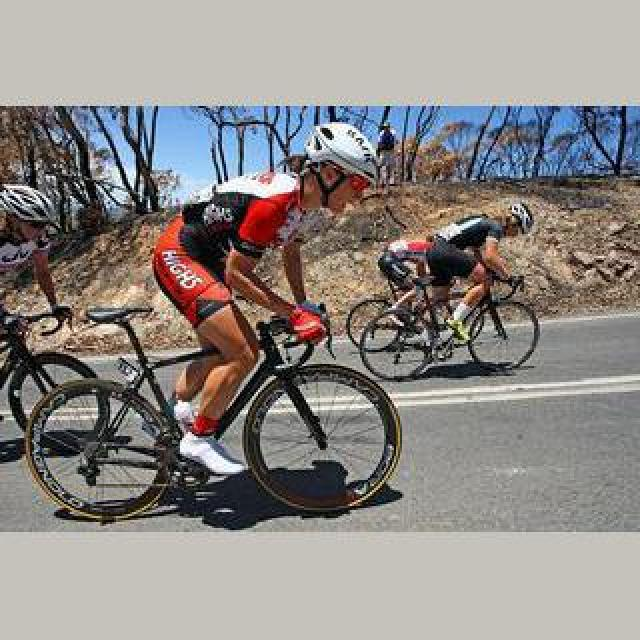MC-Bike: (152, 126, 386, 472), (392, 208, 530, 348), (0, 188, 74, 344)
Person: (20, 294, 404, 526), (358, 268, 538, 380)
